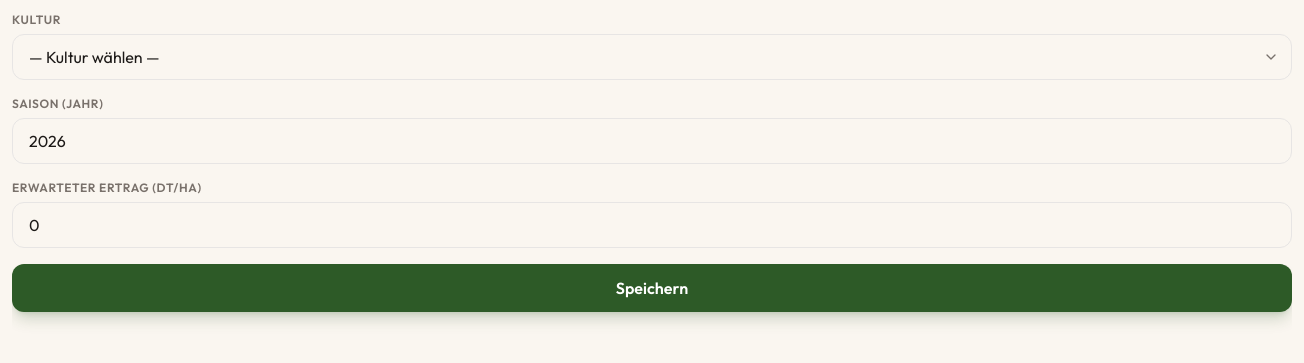
Scenario: CropPlanForm › pre-fills yield when crop is selected
Select "Winterweizen (Getreide)" in the dropdown with test id "plan-crop-select" at (652, 57), box [12,34,1292,80]
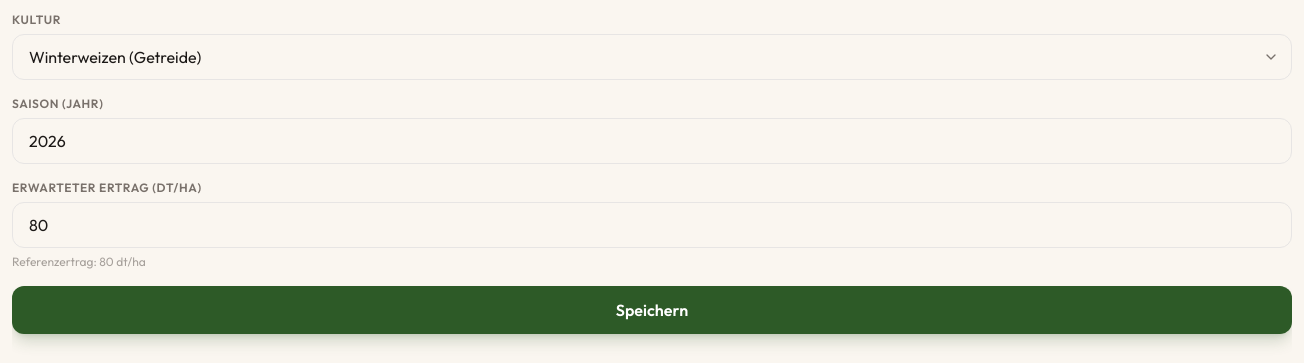
Expected: the number field with test id "plan-yield-input" holds "80", [12,202,1292,248]
